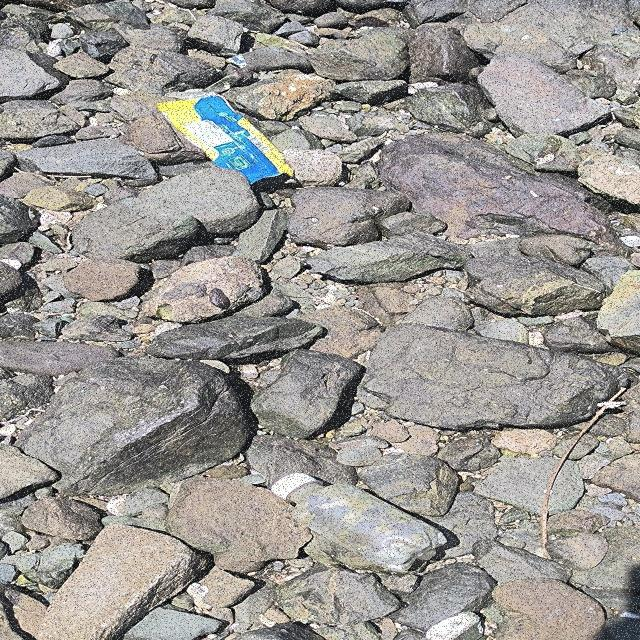plastic_waste: (272, 474, 451, 575), (157, 97, 296, 185)
